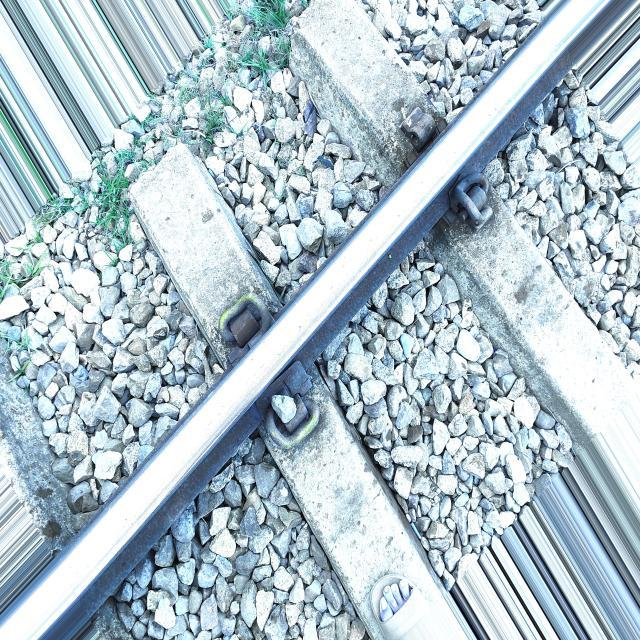Good Fasteners: (264, 361, 320, 448), (218, 293, 274, 347), (450, 172, 493, 231)
Missing Fastener: (392, 88, 445, 158)
